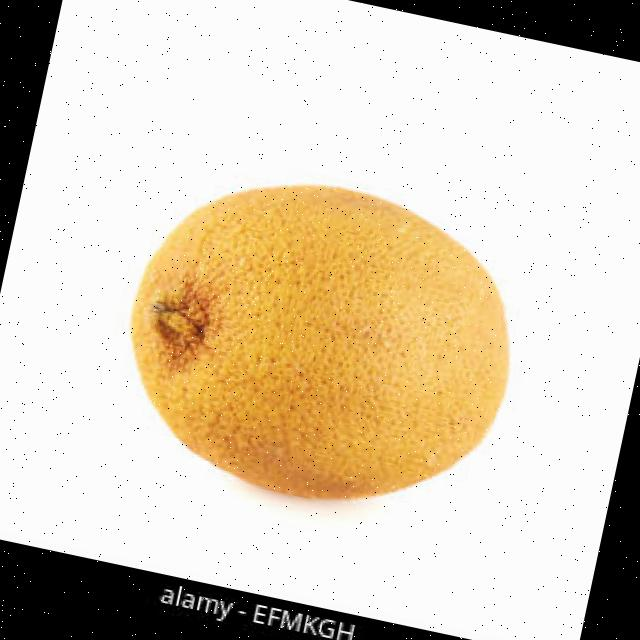overripe: (92, 138, 549, 542)
